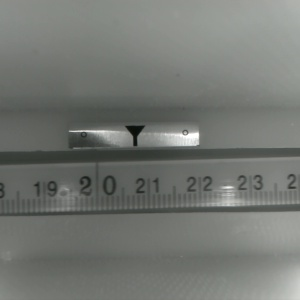0: (102, 175, 117, 195)
1: (33, 181, 41, 197), (152, 177, 159, 193)
2: (78, 176, 92, 195), (135, 177, 145, 193), (286, 173, 296, 189), (186, 176, 196, 192), (237, 175, 247, 190), (202, 176, 212, 191)
3: (252, 174, 263, 190)
9: (47, 181, 58, 196)
finger: (122, 125, 145, 147)
